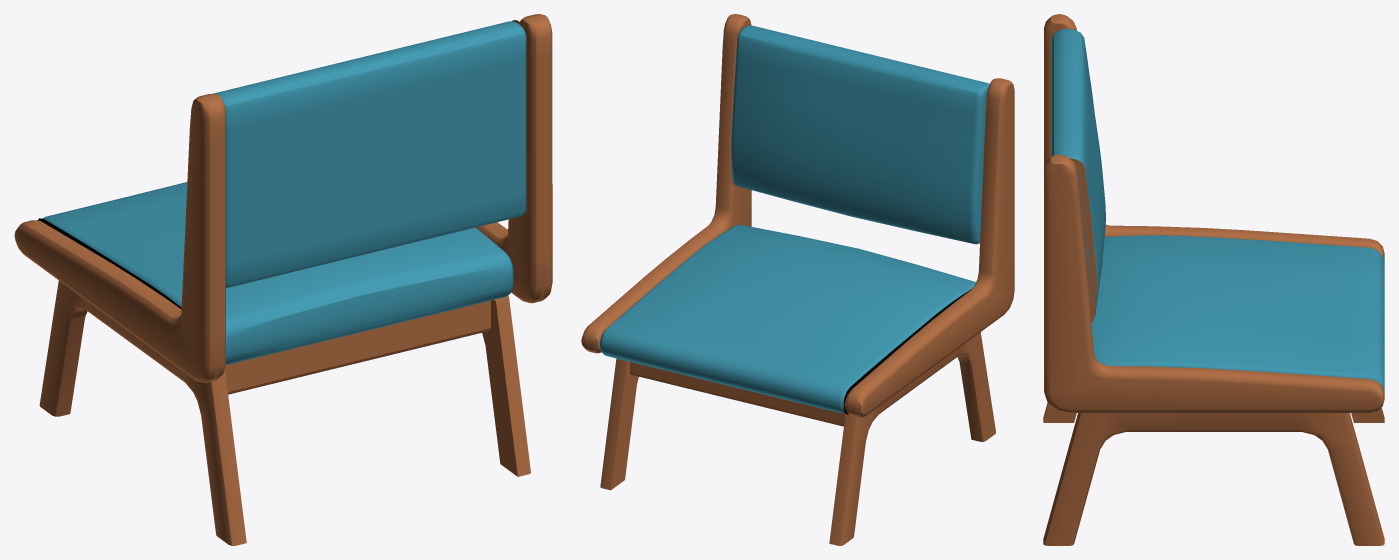
Rendered from Chairs_Single_01.glb.
3 views of the same model, side by side, from view 1: azimuth 30°, elevation 25°; view 2: azimuth 150°, elevation 25°; view 3: azimuth 270°, elevation 25° (orthographic). The views are drawn at different scales.
Visible parts, largest first — view 1: Mesh_Chair_Single_01; view 2: Mesh_Chair_Single_01; view 3: Mesh_Chair_Single_01.
Boxes of the visible parts, box(x1,y1,x2,y2) form: Mesh_Chair_Single_01: box(14, 14, 552, 545); Mesh_Chair_Single_01: box(581, 14, 1014, 545); Mesh_Chair_Single_01: box(1043, 14, 1384, 545).
Size of the model in its own units: 0.5714 by 0.7 by 0.551.
1 material, 1 textured.
